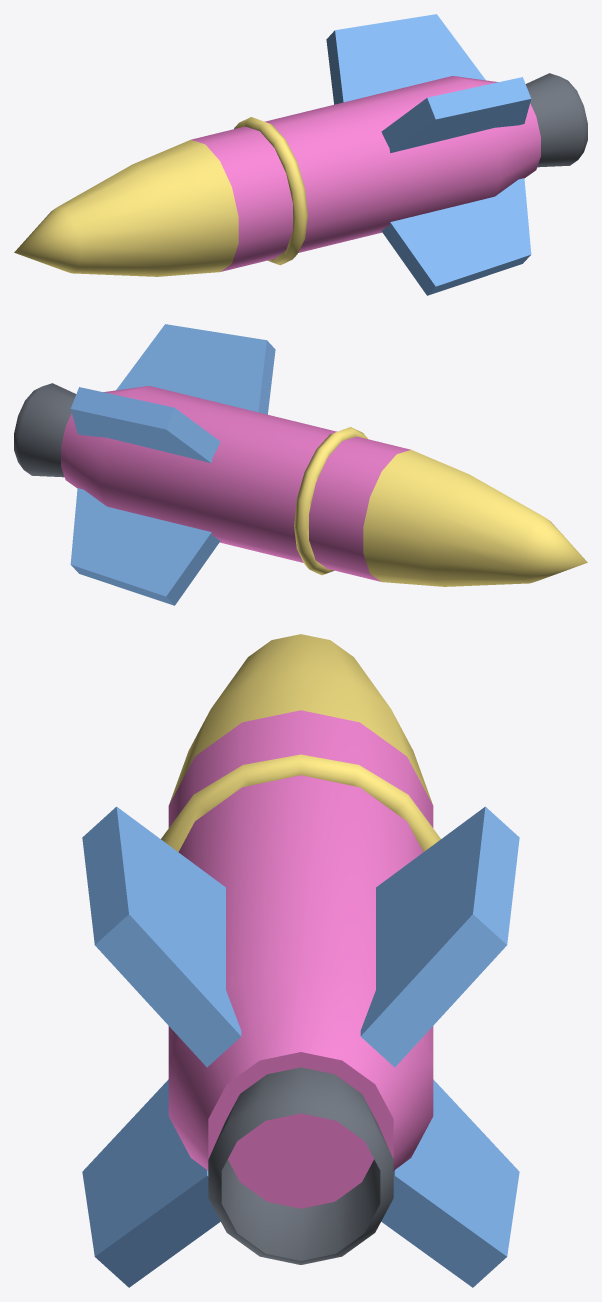
Rendered from Fireworks.fbx.
3 views of the same model, one above another, from view 1: azimuth 30°, elevation 25°; view 2: azimuth 150°, elevation 25°; view 3: azimuth 270°, elevation 25° (orthographic). The views are drawn at different scales.
Parts seen in each view (by area): view 1: rocket_firework; view 2: rocket_firework; view 3: rocket_firework.
Boxes of the visible parts, x1,y1,x2,y2 form: rocket_firework: [14, 14, 587, 295]; rocket_firework: [14, 324, 587, 605]; rocket_firework: [82, 634, 519, 1287].
Bounding box in the file's own units: 0.66 × 0.2256 × 0.2256.
